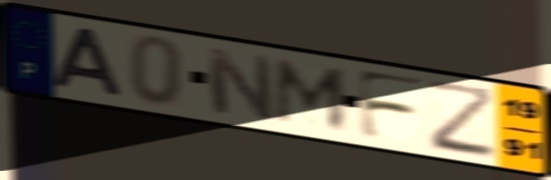0: (124, 33, 189, 110)
A: (49, 25, 127, 100)
F: (354, 67, 428, 143)
M: (272, 56, 351, 132)
N: (203, 45, 278, 125)
Z: (423, 78, 500, 162)
